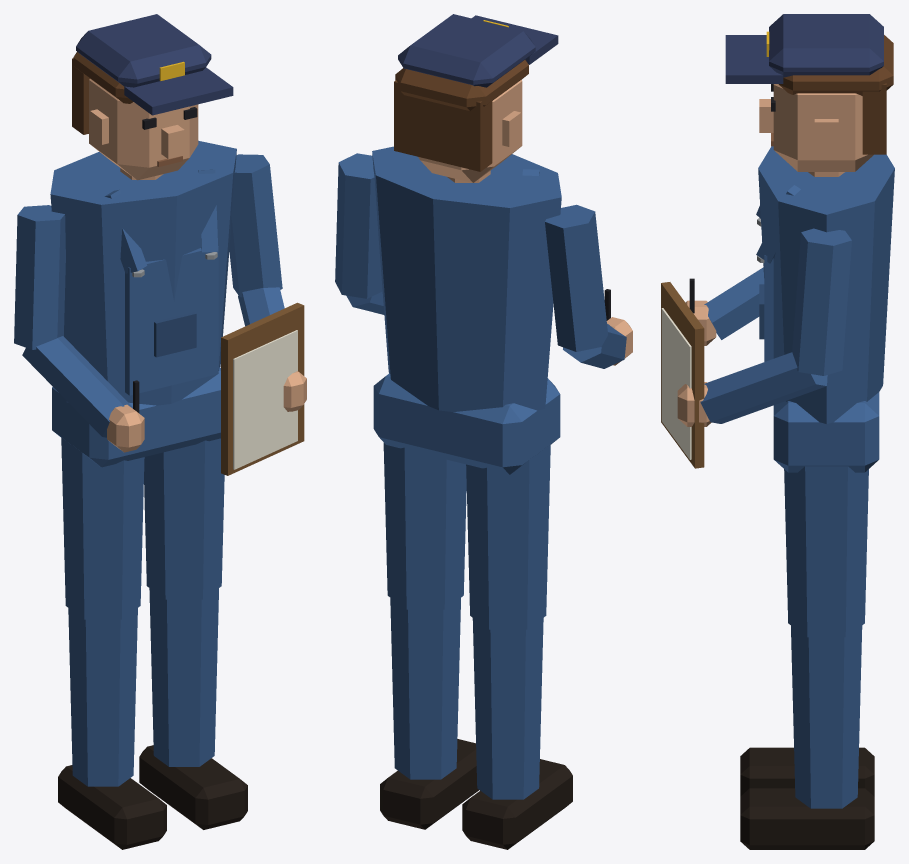
Rendered from person.engineer.glb.
3 views of the same model, side by side, from view 1: azimuth 30°, elevation 25°; view 2: azimuth 150°, elevation 25°; view 3: azimuth 270°, elevation 25° (orthographic). The views are drawn at different scales.
Visible parts, largest first — view 1: torso, thigh-1, thigh1, shin-1, shin1, bib, clip-paper, hips, upper-1, cap, upper1, head (+15 smaller); view 2: torso, thigh-1, thigh1, shin-1, shin1, hips, upper-1, cap, hair-back, upper1, shoe-1, shoe1 (+5 smaller); view 3: torso, thigh1, shin1, upper1, shoe1, cap, hips, head, fore1, clip-paper, clipboard, shoe-1 (+10 smaller).
Boxes of the visible parts, box(x1,y1,x2,y2) form: torso: box(50, 140, 236, 405); thigh-1: box(61, 437, 144, 619); thigh1: box(144, 438, 224, 599); shin-1: box(68, 608, 137, 786); shin1: box(149, 588, 218, 766); bib: box(125, 246, 218, 395); clip-paper: box(233, 330, 297, 469); hips: box(52, 367, 220, 467); upper-1: box(14, 205, 65, 349); cap: box(76, 14, 211, 87); upper1: box(229, 154, 282, 297); head: box(89, 79, 198, 180); torso: box(372, 146, 561, 411); thigh-1: box(466, 444, 550, 629); thigh1: box(383, 442, 466, 609); shin-1: box(472, 618, 543, 799); shin1: box(390, 598, 460, 779); hips: box(373, 373, 560, 474); upper-1: box(545, 204, 607, 351); cap: box(398, 14, 535, 87); hair-back: box(394, 80, 492, 171); upper1: box(335, 153, 382, 298); shoe-1: box(462, 759, 572, 849); shoe1: box(380, 739, 478, 829); torso: box(758, 146, 894, 423); thigh1: box(784, 466, 868, 637); shin1: box(791, 625, 862, 808); upper1: box(792, 228, 851, 375); shoe1: box(740, 788, 874, 849); cap: box(769, 14, 883, 77); hips: box(773, 392, 879, 472); head: box(773, 84, 873, 171); fore1: box(700, 352, 827, 423); clip-paper: box(661, 308, 691, 459); clipboard: box(661, 282, 704, 468); shoe-1: box(740, 747, 874, 796).
Size of the model in its own units: 0.6461 by 1.81 by 0.4876.
